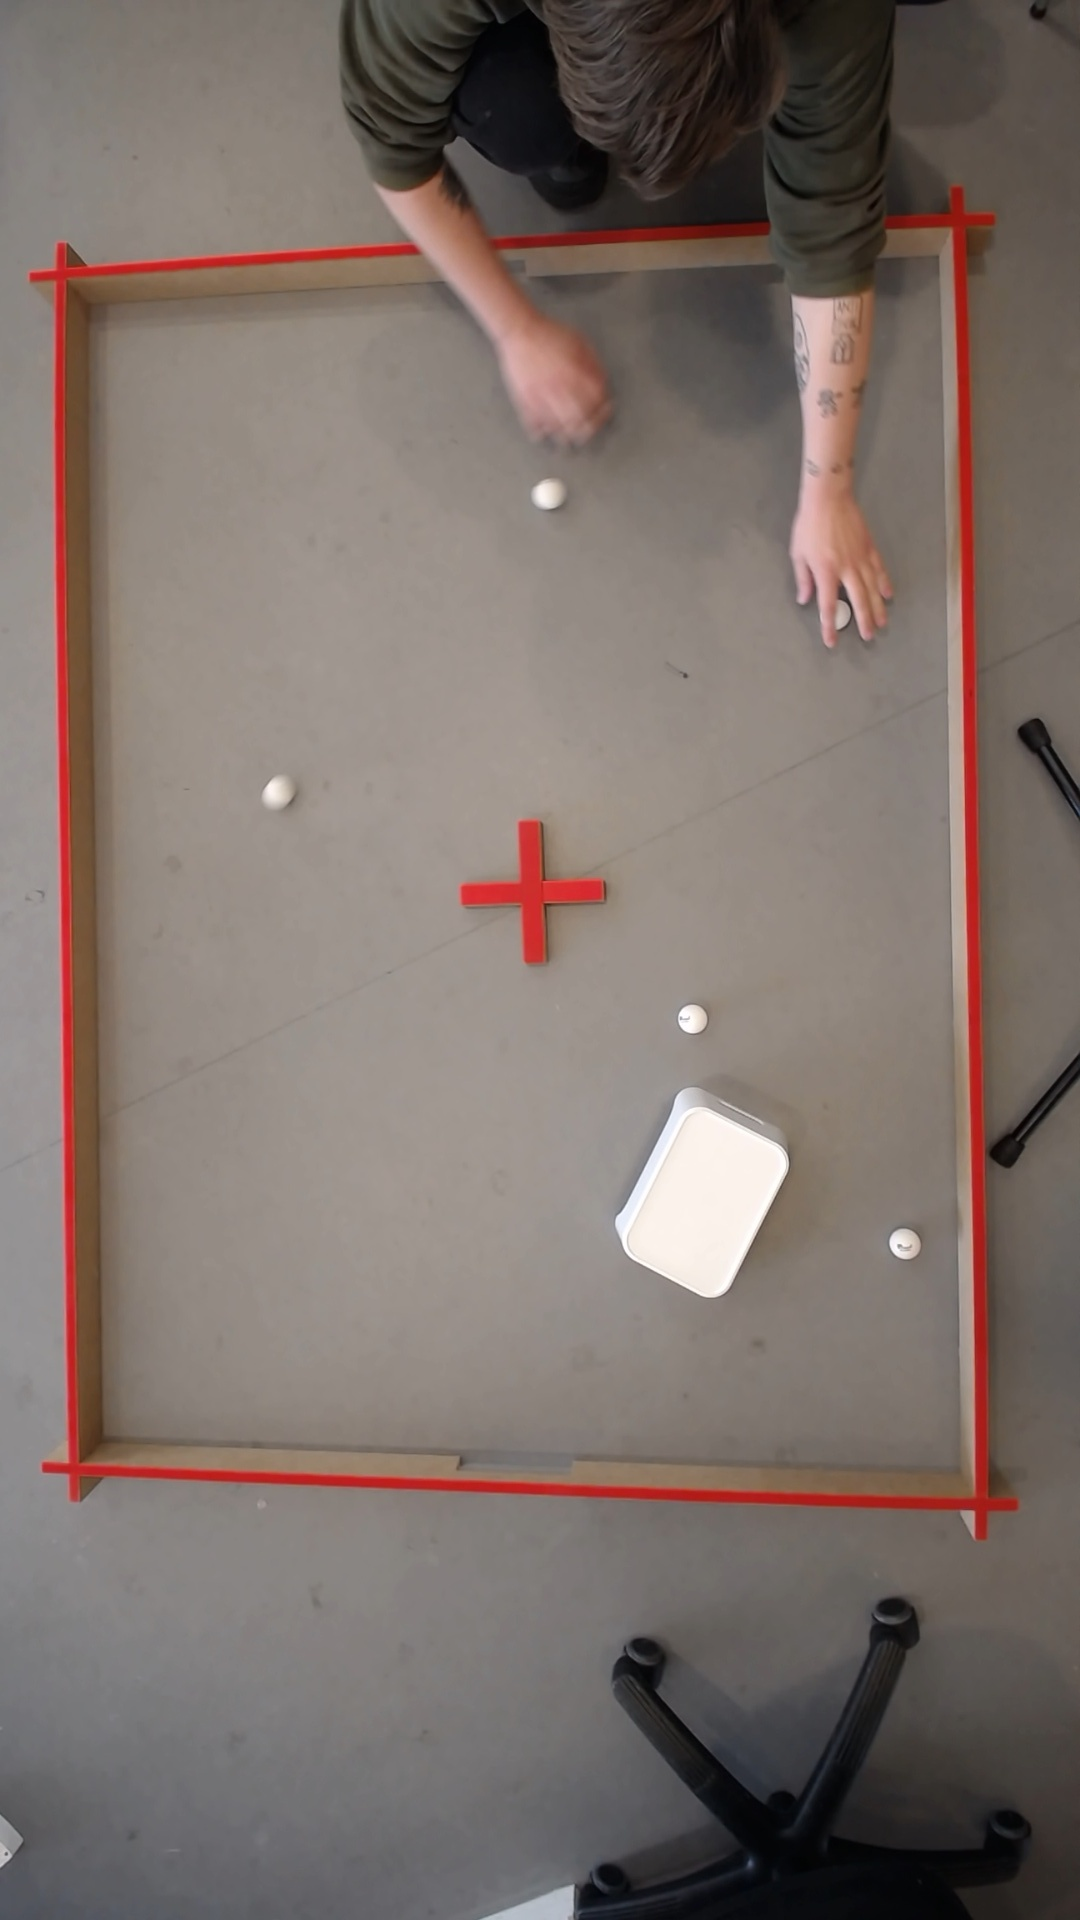balls: (600, 1089, 798, 1304), (382, 189, 427, 245), (794, 472, 815, 564), (498, 336, 533, 393), (527, 475, 563, 510)
car: (264, 779, 284, 804)
